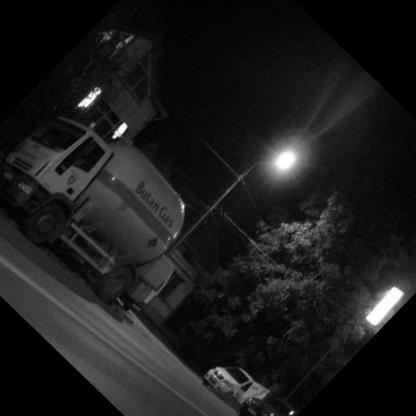car: (199, 350, 260, 411), (237, 380, 299, 416)
truck: (1, 75, 239, 340)
